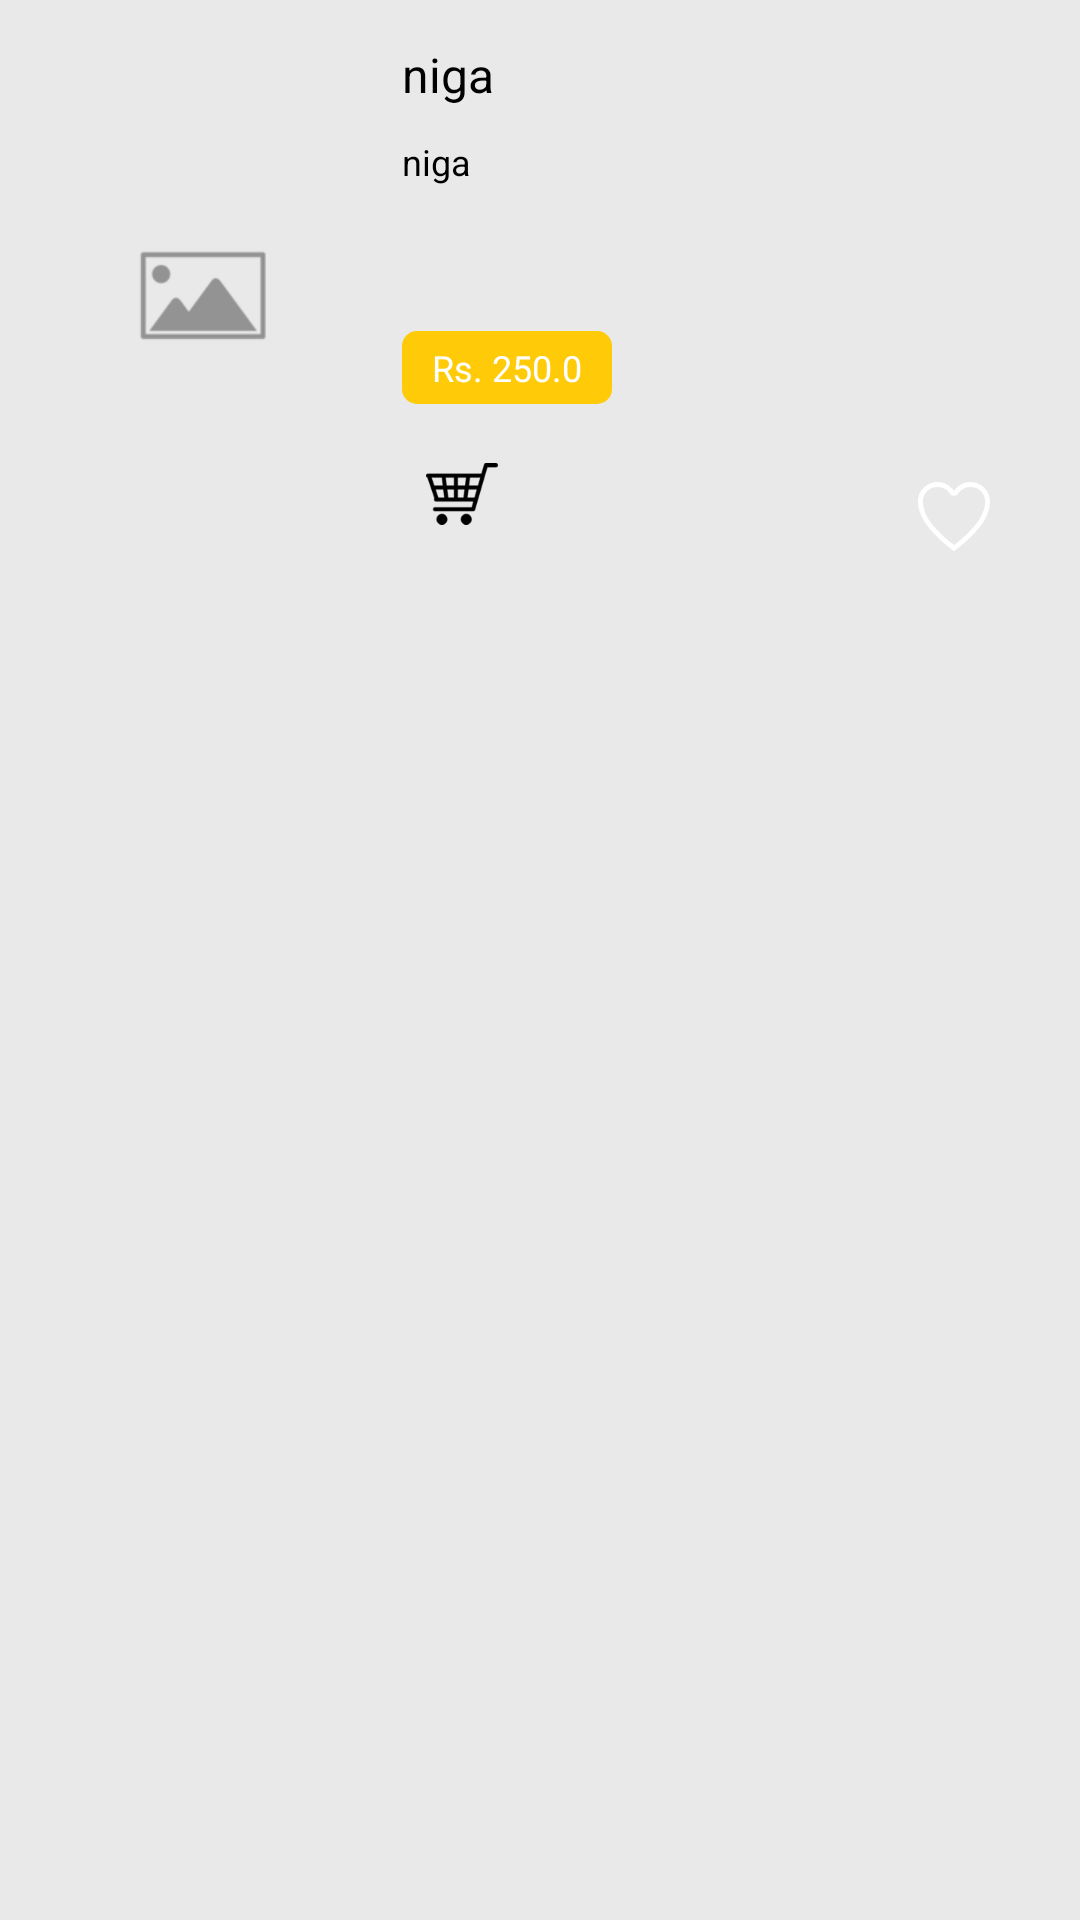

Where icons sit on this 1080 x 1920 app screen, as (x1, y1, x2, y2):
cart: (426, 463, 498, 525)
